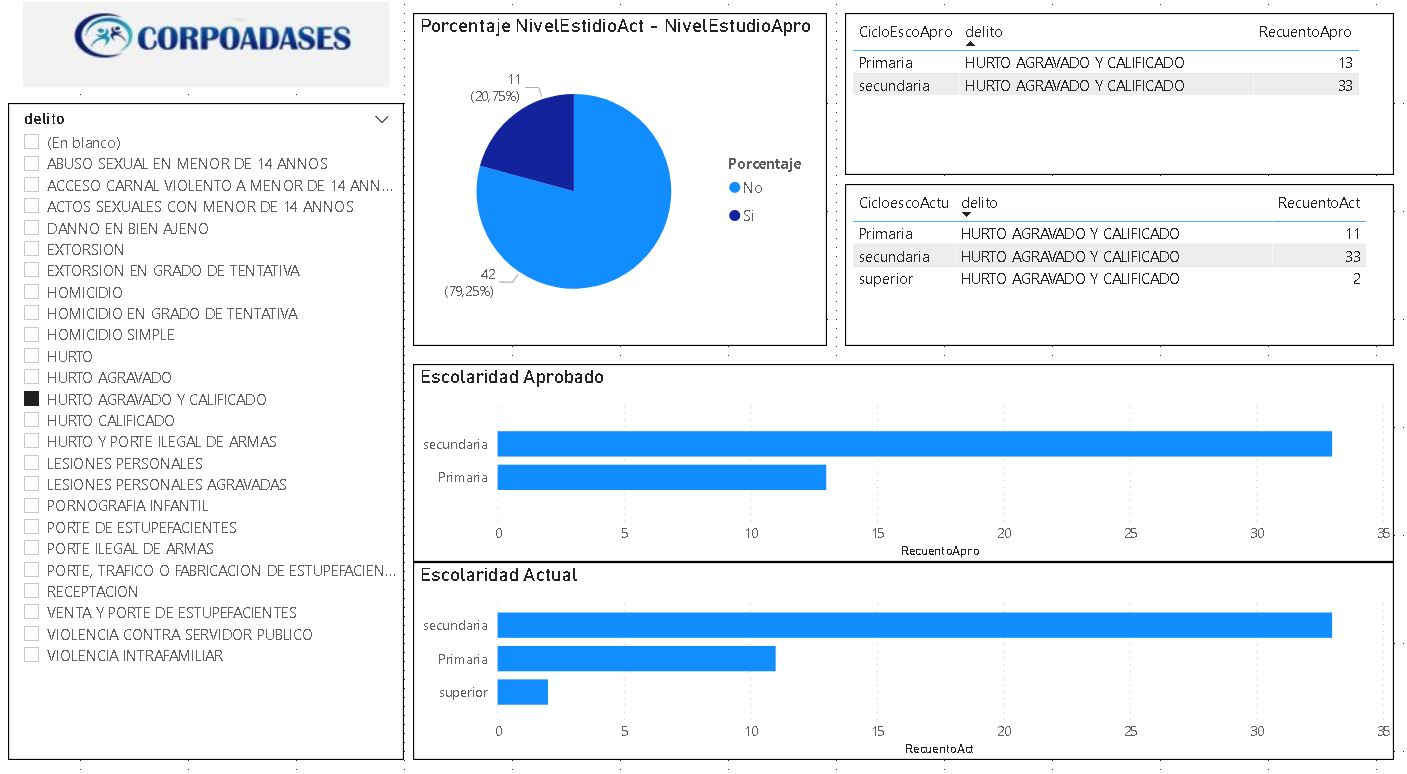

What the dashboard file says about the page in this screenshot:
{"tool":"powerbi","page":{"name":"NivelEscolaridad","canvas":[1280,720],"ordinal":4},"visuals":[{"type":"image","box":[40,0,336,88],"z":0},{"type":"slicer","fields":{"Values":["CSV_Visualizacion5.delito"]},"box":[32,96,352,584],"z":1000},{"type":"pieChart","title":"Porcentaje NivelEstidioAct - NivelEstudioApro","fields":{"Y":["CountNonNull(CSV_Visualizacion5.continuidadEscolar)"],"Category":["CSV_Visualizacion5.continuidadEscolar"]},"box":[392,16,368,296],"z":2000},{"type":"tableEx","fields":{"Values":["CSV_Visualizacion5Apro.CicloEscoApro","CSV_Visualizacion5Apro.delito","CSV_Visualizacion5Apro.RecuentoApro"]},"box":[776,16,488,144],"z":3000},{"type":"tableEx","fields":{"Values":["CSV_Visualizacion5Act.CicloescoActu","CSV_Visualizacion5Act.delito","CSV_Visualizacion5Act.RecuentoAct"]},"box":[776,168,488,144],"z":4000},{"type":"clusteredBarChart","title":"Escolaridad Actual","fields":{"Category":["CSV_Visualizacion5Act.CicloescoActu"],"Y":["Sum(CSV_Visualizacion5Act.RecuentoAct)"]},"box":[392,504,872,176],"z":5000},{"type":"clusteredBarChart","title":"Escolaridad Aprobado","fields":{"Y":["Sum(CSV_Visualizacion5Apro.RecuentoApro)"],"Category":["CSV_Visualizacion5Apro.CicloEscoApro"]},"box":[392,328,872,176],"z":6000}]}

Visuals, with their boxes in screenshot pixels (x1, y1, x2, y2), scaled from the page's 1280x720 canvas onto the 1407x774 screenshot:
image: <box>44,0,413,95</box>
slicer - CSV_Visualizacion5.delito: <box>35,103,422,731</box>
"Porcentaje NivelEstidioAct - NivelEstudioApro" pieChart: <box>431,17,835,335</box>
tableEx - CSV_Visualizacion5Apro.CicloEscoApro x CSV_Visualizacion5Apro.delito: <box>853,17,1389,172</box>
tableEx - CSV_Visualizacion5Act.CicloescoActu x CSV_Visualizacion5Act.delito: <box>853,181,1389,335</box>
"Escolaridad Actual" clusteredBarChart: <box>431,542,1389,731</box>
"Escolaridad Aprobado" clusteredBarChart: <box>431,353,1389,542</box>
